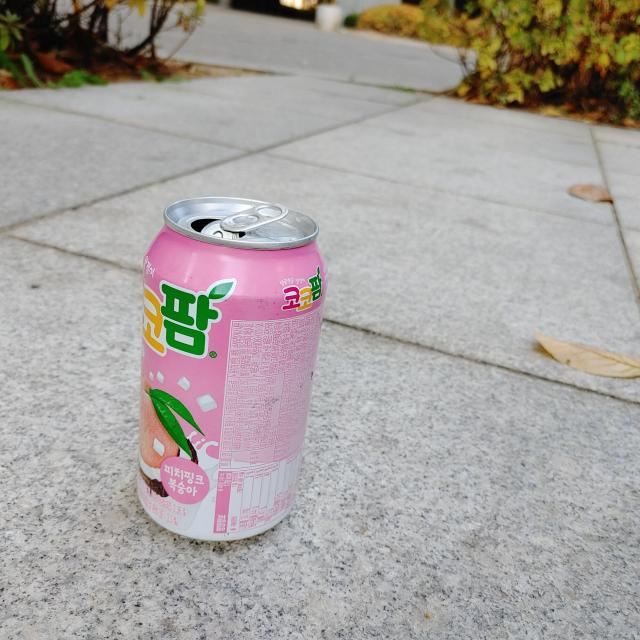can: (137, 197, 327, 541)
